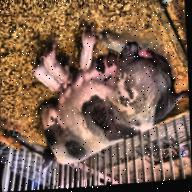boar: (33, 12, 192, 179)
